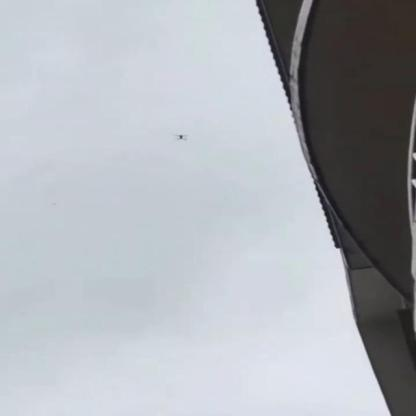drone: (174, 134, 187, 140)
